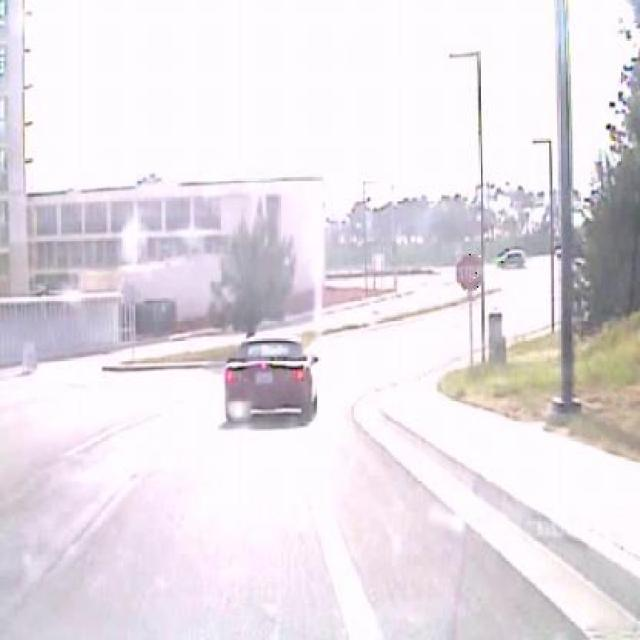stop: (455, 252, 483, 292)
